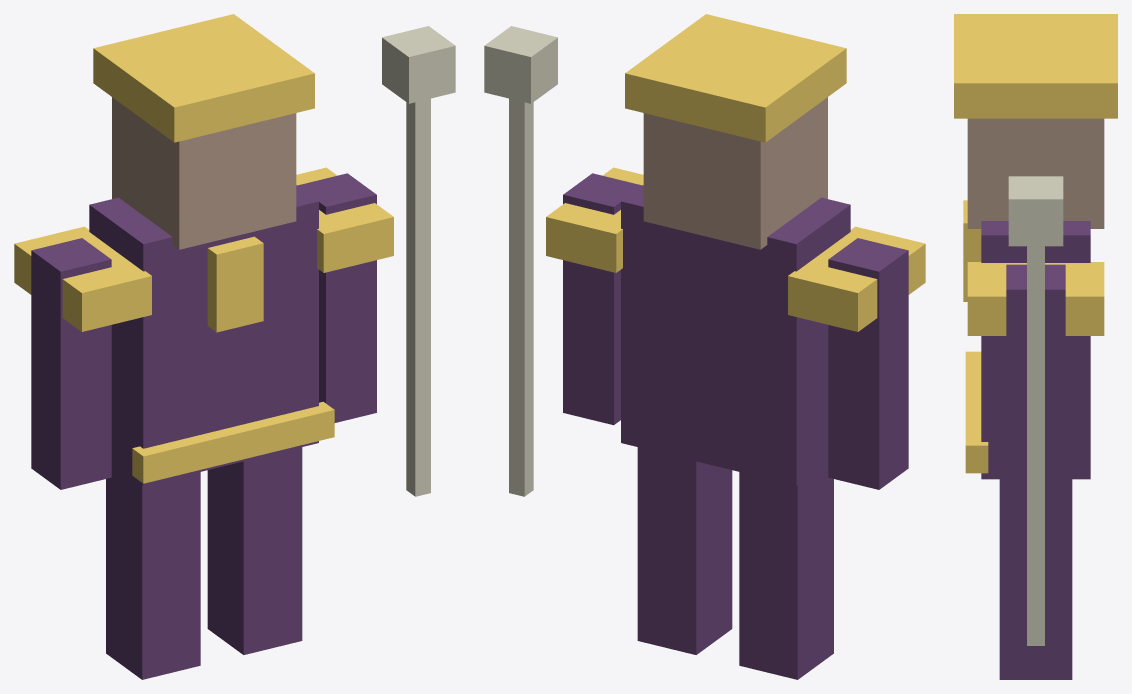
The model's file is 05_luma_mossguard_sentinel_under_hidden.glb.
3 views of the same model, side by side, from view 1: azimuth 30°, elevation 25°; view 2: azimuth 150°, elevation 25°; view 3: azimuth 270°, elevation 25° (orthographic).
Visible parts, largest first — view 1: Luma Mossguard, Sentinel under Hidden; view 2: Luma Mossguard, Sentinel under Hidden; view 3: Luma Mossguard, Sentinel under Hidden.
Boxes of the visible parts, x1,y1,x2,y2 form: Luma Mossguard, Sentinel under Hidden: (14, 14, 455, 679); Luma Mossguard, Sentinel under Hidden: (484, 14, 925, 679); Luma Mossguard, Sentinel under Hidden: (954, 14, 1117, 679).
Size of the model in its own units: 1.03 by 1.46 by 0.3648.
